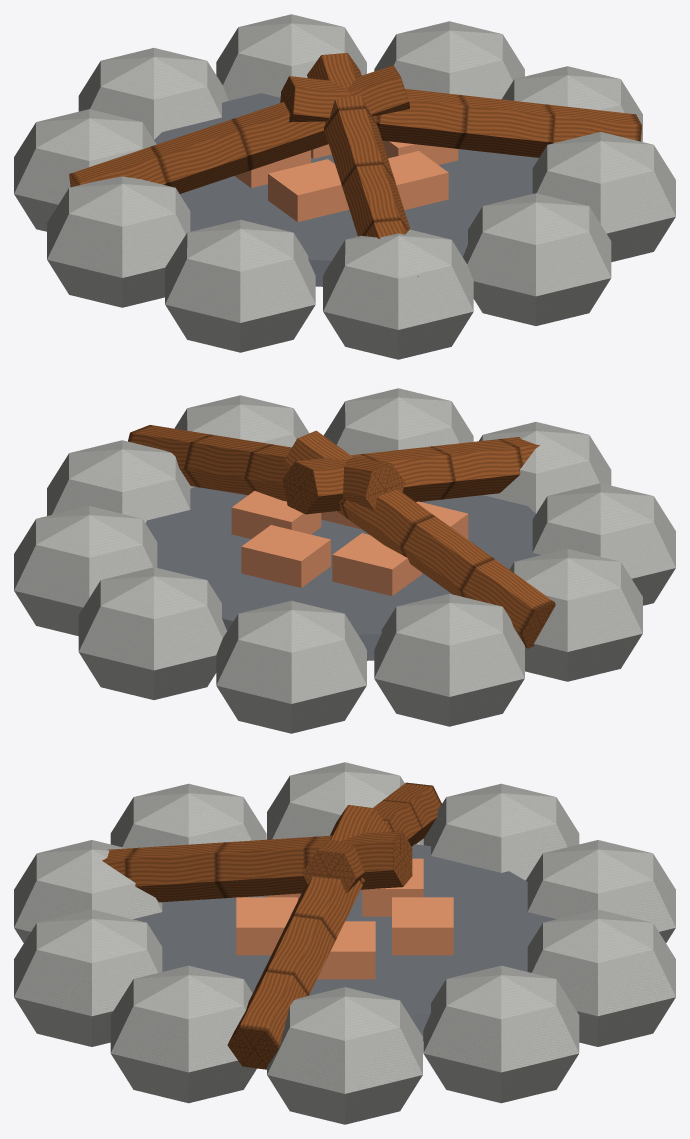
Rendered from caravan-park-and-campsite-fire-pit-ring-a42e931d.glb.
3 renders of one model, top to bottom at view 1: azimuth 30°, elevation 25°; view 2: azimuth 150°, elevation 25°; view 3: azimuth 270°, elevation 25°, orthographic. The views are drawn at different scales.
Visible parts, largest first — view 1: fire-pit-ring-hard, fire-pit-ring-timber, fire-pit-ring-charcoal, fire-pit-ring-flame; view 2: fire-pit-ring-hard, fire-pit-ring-timber, fire-pit-ring-charcoal, fire-pit-ring-flame; view 3: fire-pit-ring-hard, fire-pit-ring-timber, fire-pit-ring-charcoal, fire-pit-ring-flame.
Part boxes in pixels (<box>): fire-pit-ring-hard: <box>14,14,675,359</box>; fire-pit-ring-timber: <box>69,53,641,276</box>; fire-pit-ring-charcoal: <box>154,93,538,286</box>; fire-pit-ring-flame: <box>234,140,458,221</box>; fire-pit-ring-hard: <box>14,388,675,733</box>; fire-pit-ring-timber: <box>128,425,555,648</box>; fire-pit-ring-charcoal: <box>145,487,540,660</box>; fire-pit-ring-flame: <box>231,490,468,595</box>; fire-pit-ring-hard: <box>14,762,675,1124</box>; fire-pit-ring-timber: <box>35,782,441,1069</box>; fire-pit-ring-charcoal: <box>133,844,556,1040</box>; fire-pit-ring-flame: <box>236,858,453,979</box>.
Size of the model in its own units: 1.39 by 0.3745 by 1.29.
Materials: 4 (2 with a texture image).
